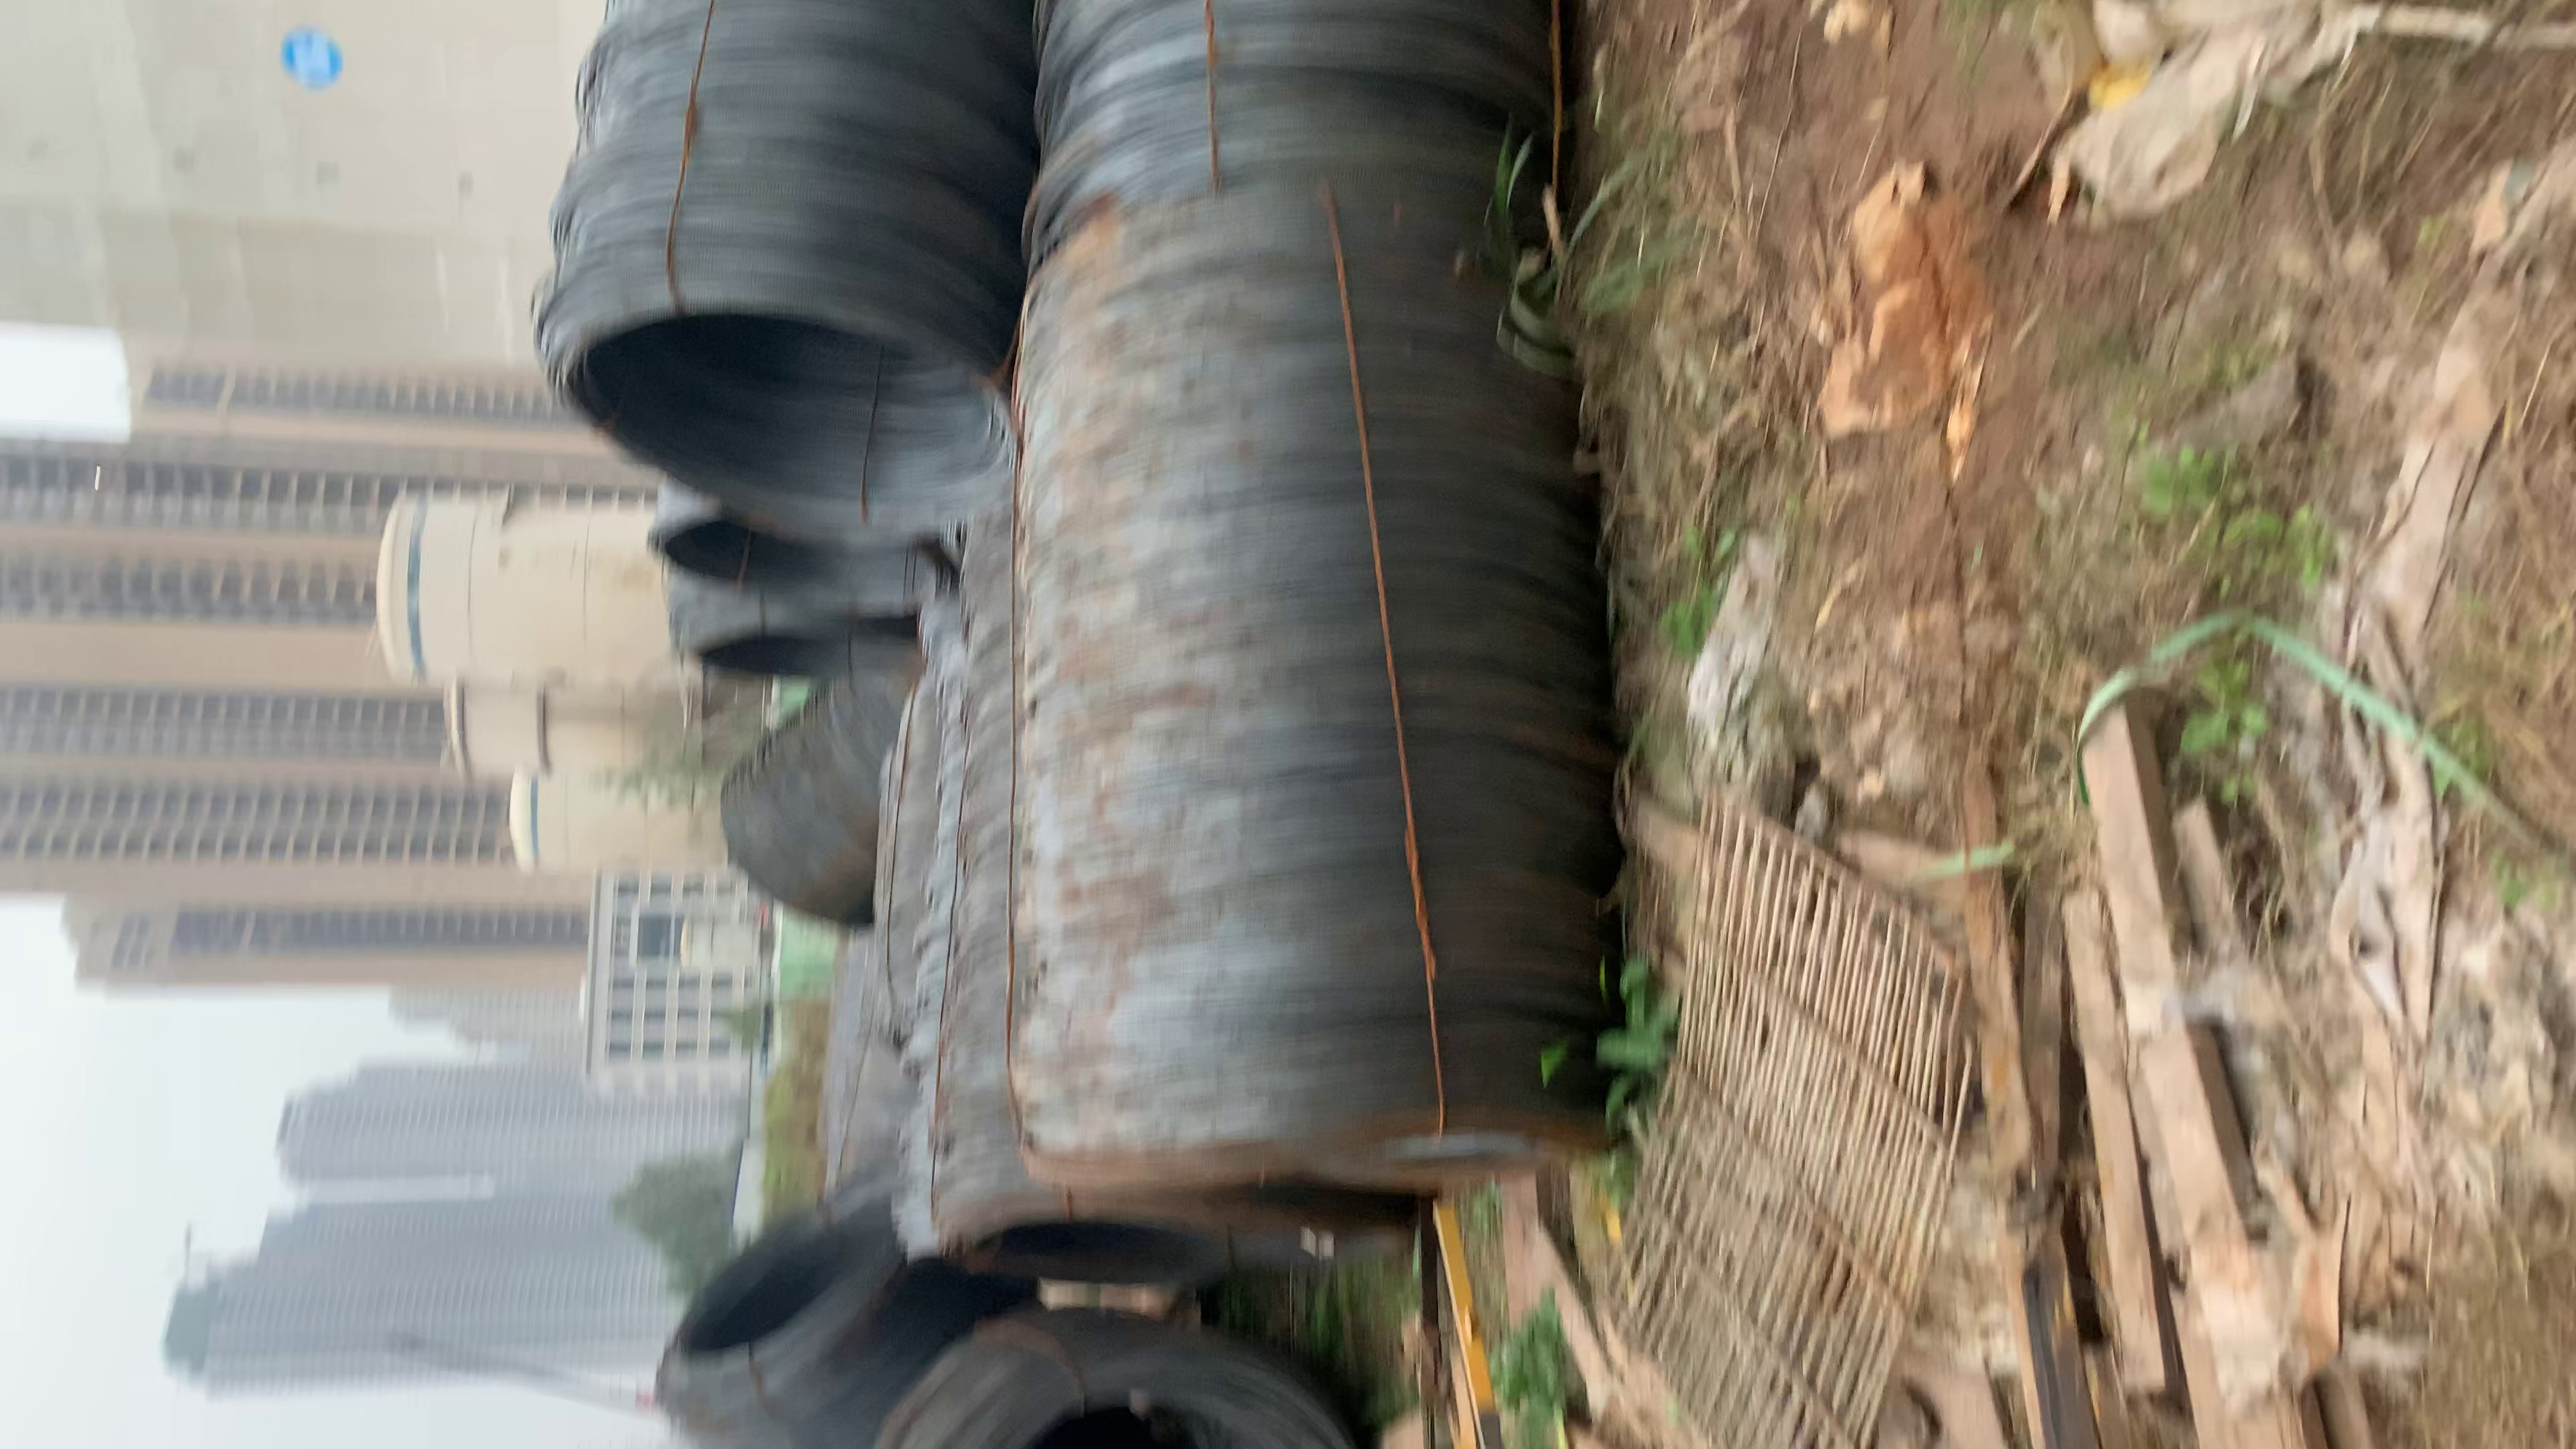coil: (547, 301, 1028, 540), (635, 1180, 931, 1394), (1063, 1139, 1638, 1240), (908, 1341, 1366, 1449), (651, 522, 975, 637), (688, 610, 938, 704)
